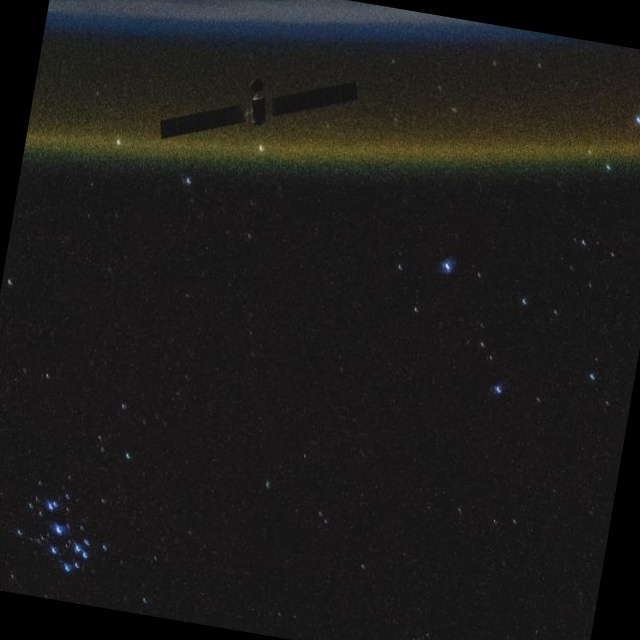satellite: (138, 38, 384, 184)
